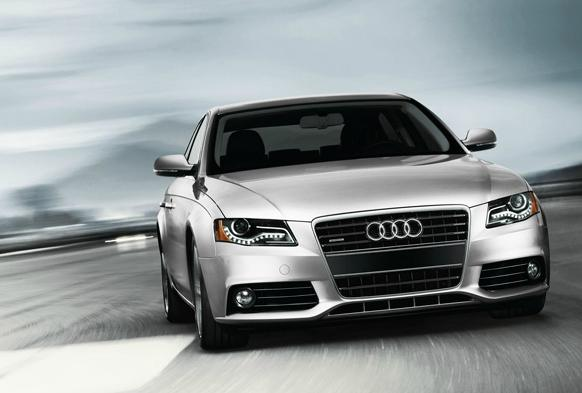Audi: (357, 208, 436, 249)
